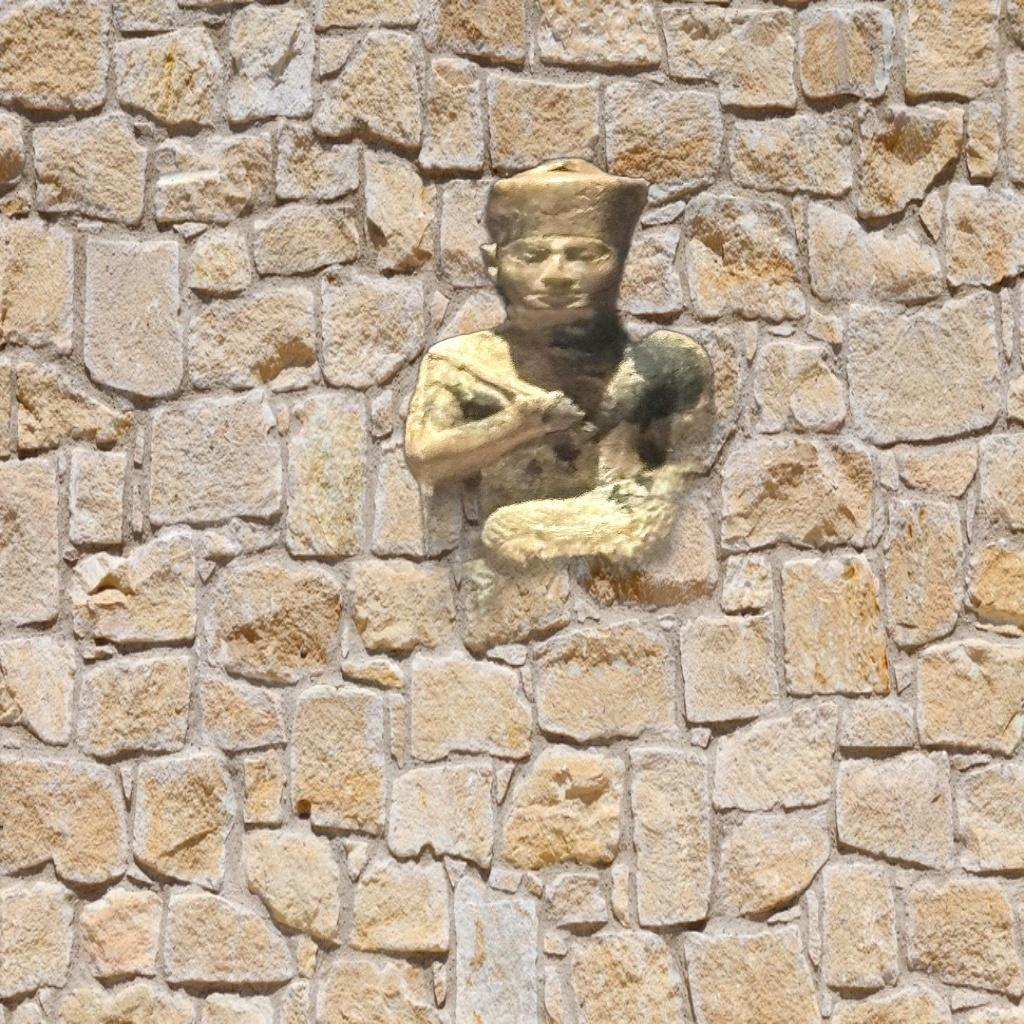Statue of Khufu: (398, 152, 774, 808)
